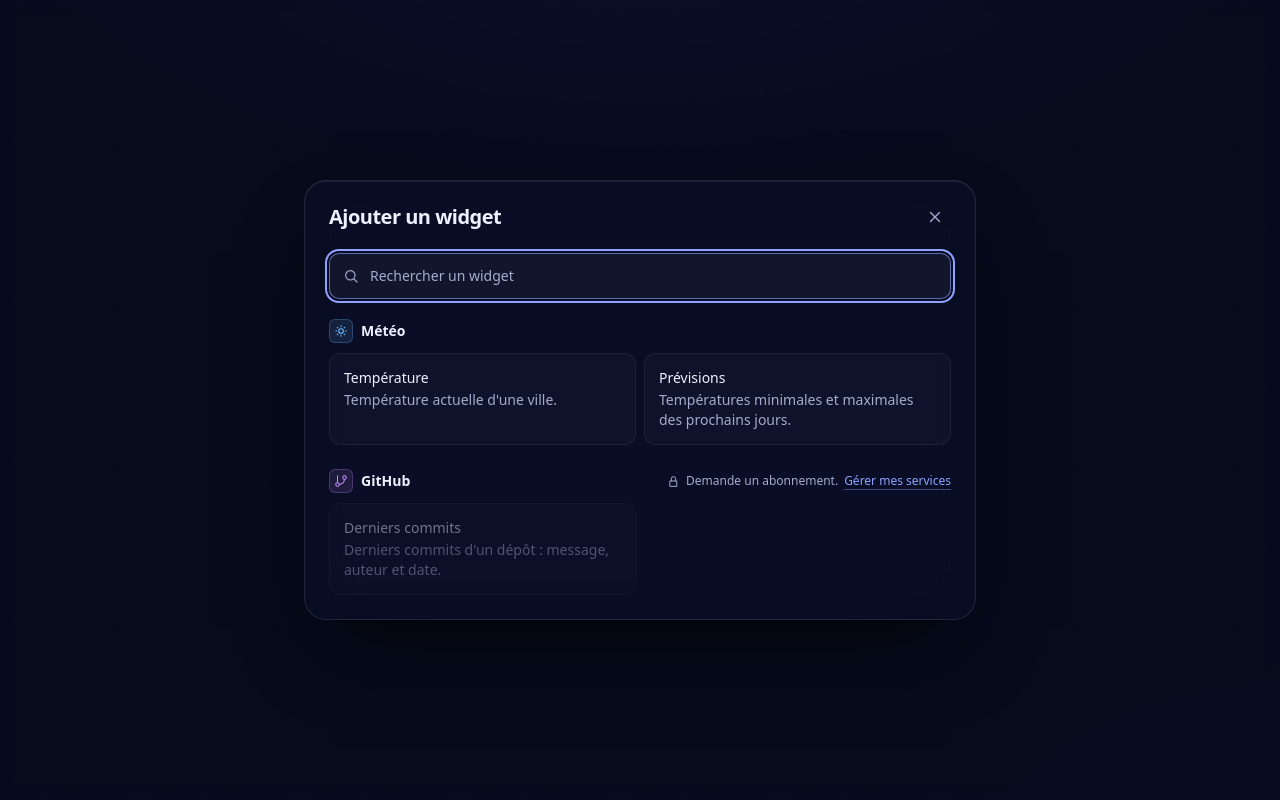
Test: WidgetFormModal — ajout › permet de revenir au choix du widget
Click the button "Température Température actuelle d'une ville." at point(482, 399), box [329,353,636,445]
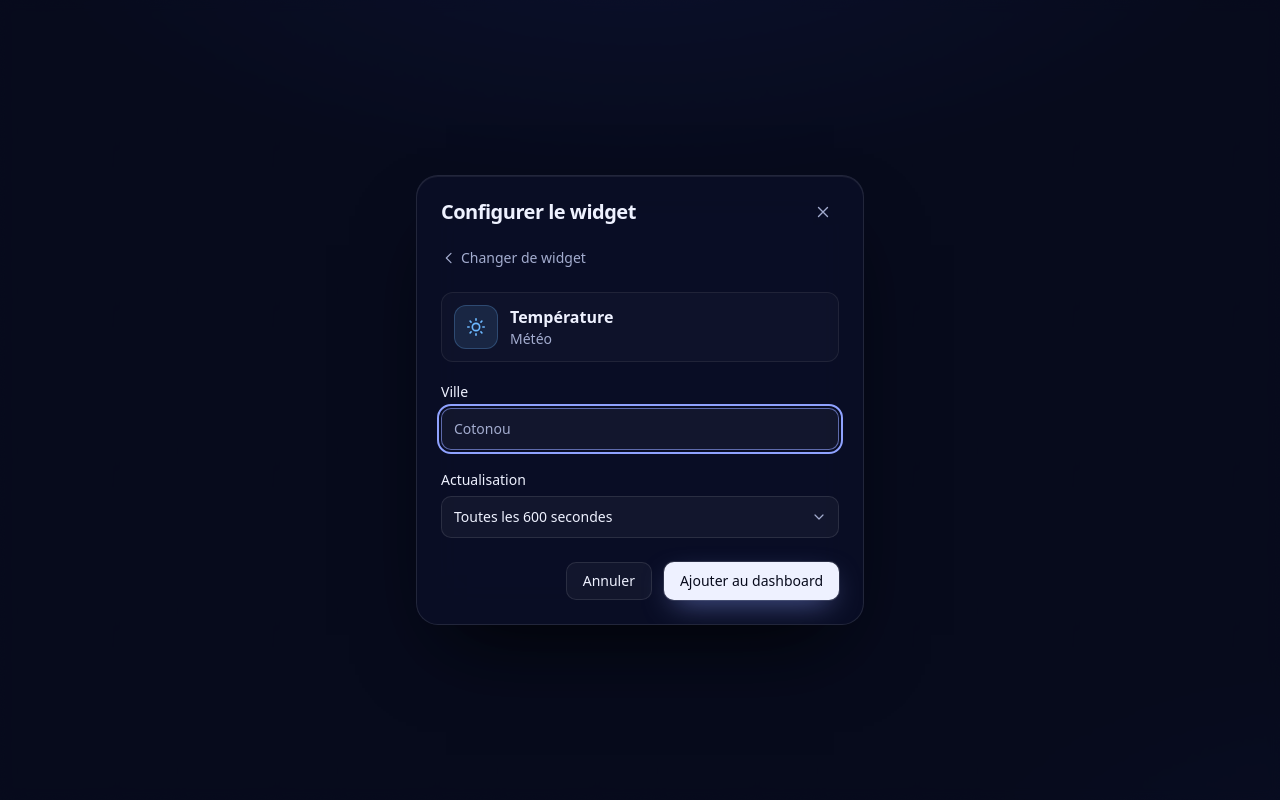
Click the button "Changer de widget" at point(513, 258), box [441,248,586,268]
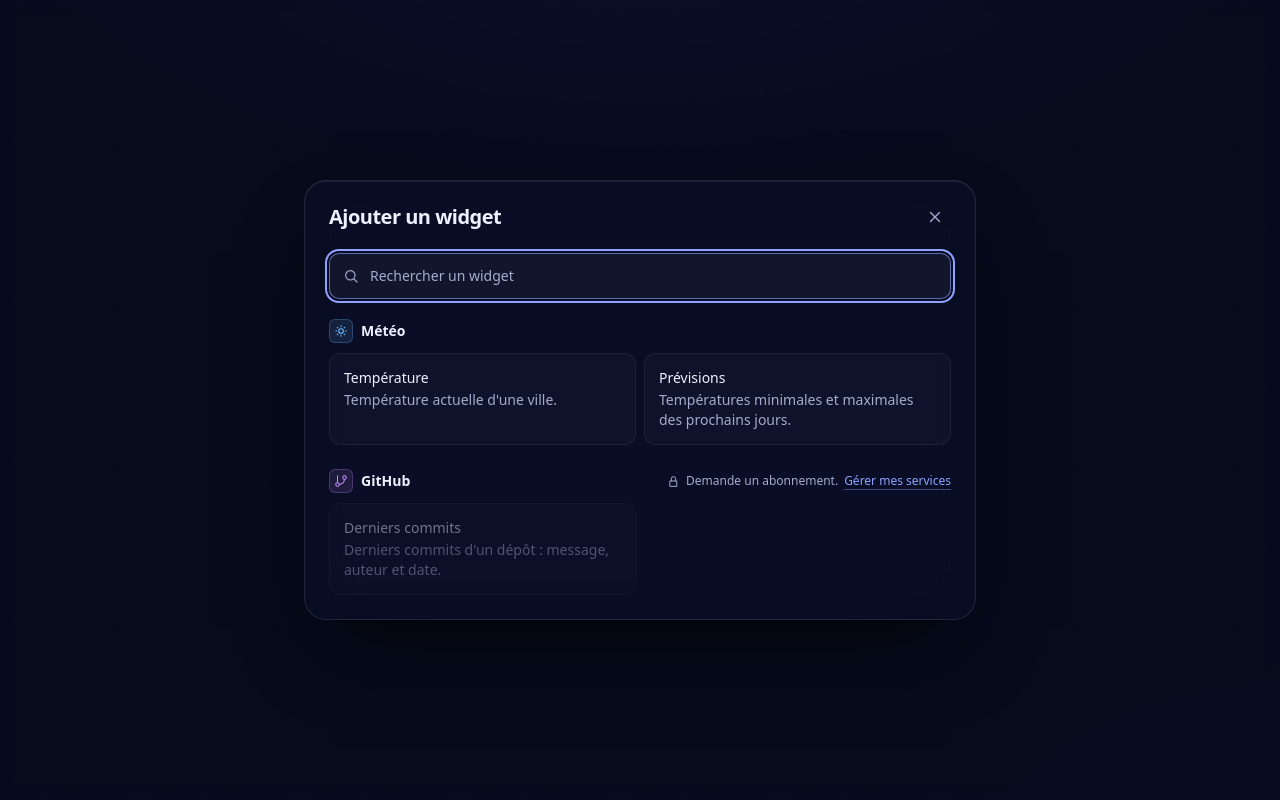
Check: the dialog "Ajouter un widget" is shown, box [304,180,976,620]
